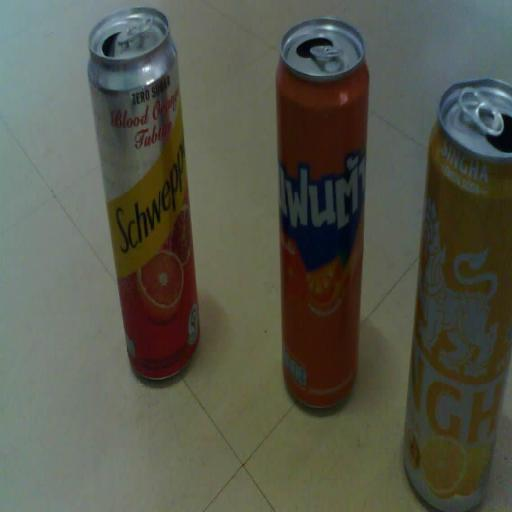canned: (80, 0, 222, 408), (387, 55, 512, 512), (268, 0, 373, 427)
